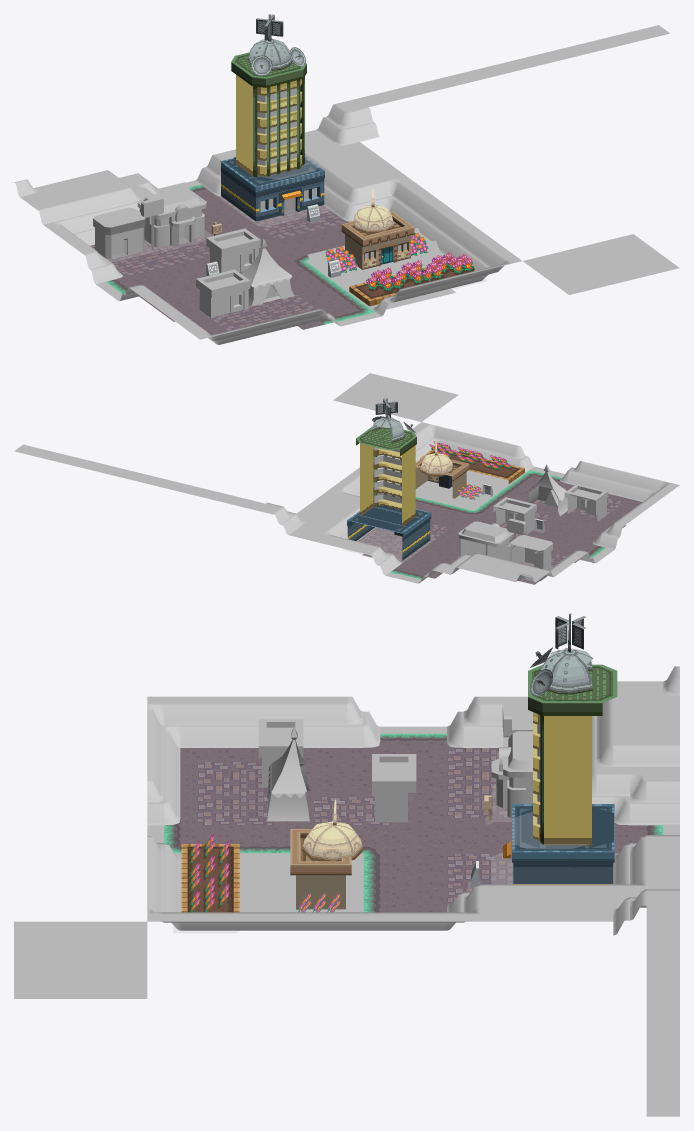
The model's file is map.dae.
3 renders of one model, top to bottom at view 1: azimuth 30°, elevation 25°; view 2: azimuth 150°, elevation 25°; view 3: azimuth 270°, elevation 25°, orthographic. The views are drawn at different scales.
Parts seen in each view (by area): view 1: map44_07c, si_radio, si_temp, pc, fs, si_h01, ko_seimei, si_h01.001; view 2: map44_07c, si_radio, pc, si_temp, fs, si_h01, si_h01.001, ko_seimei; view 3: map44_07c, si_radio, si_temp, pc, ko_seimei, si_h01.001, si_h01, fs.
Boxes of the visible parts, <box> form: map44_07c: <box>14,25,679,344</box>; si_radio: <box>215,14,331,226</box>; si_temp: <box>341,189,414,269</box>; pc: <box>137,187,211,250</box>; fs: <box>93,197,163,261</box>; si_h01: <box>196,269,250,318</box>; ko_seimei: <box>241,238,294,306</box>; si_h01.001: <box>206,228,260,272</box>; map44_07c: <box>14,373,679,584</box>; si_radio: <box>342,397,435,563</box>; pc: <box>458,521,513,561</box>; si_temp: <box>415,441,469,498</box>; fs: <box>507,518,552,570</box>; si_h01: <box>564,483,608,521</box>; si_h01.001: <box>493,497,536,534</box>; ko_seimei: <box>526,464,567,516</box>; map44_07c: <box>14,666,679,1116</box>; si_radio: <box>491,613,618,884</box>; si_temp: <box>290,799,363,909</box>; pc: <box>491,731,532,821</box>; ko_seimei: <box>267,726,309,821</box>; si_h01.001: <box>364,754,416,822</box>; si_h01: <box>258,719,303,787</box>; fs: <box>497,701,532,758</box>.
Size of the model in its own units: 1024 by 640 by 284.
